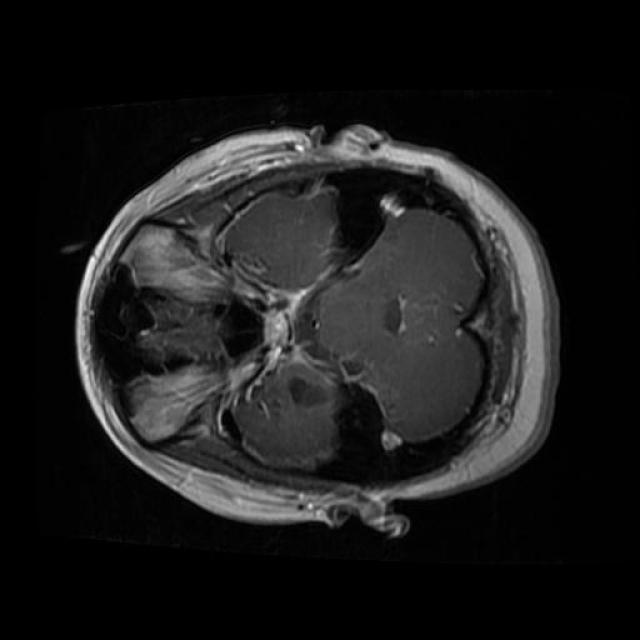Glioma: (94, 261, 130, 425)
